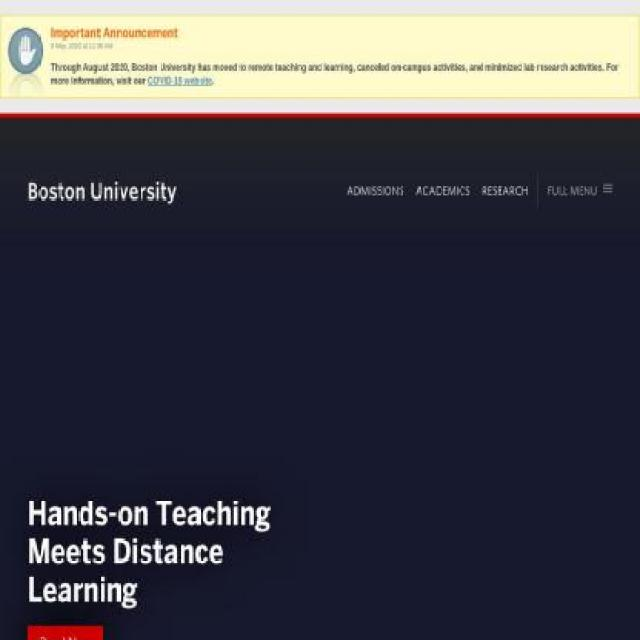button: (27, 157, 178, 225), (537, 174, 612, 208), (346, 174, 405, 208), (415, 174, 470, 208), (481, 174, 528, 208), (27, 626, 104, 640)
